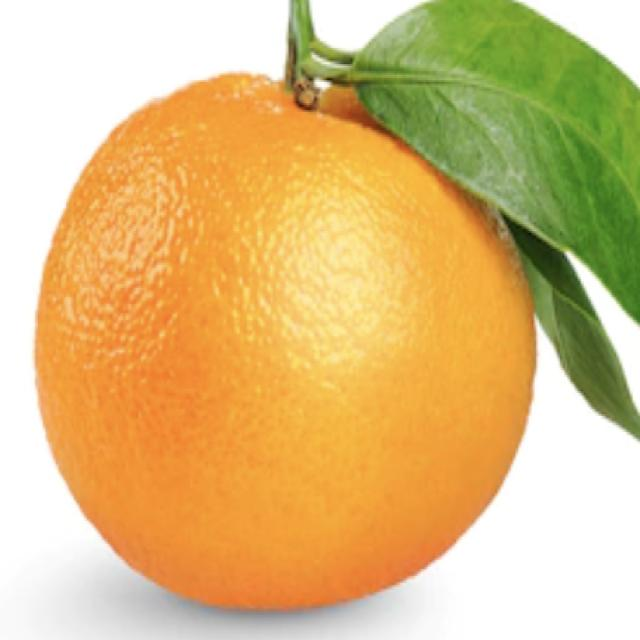orange: (29, 76, 538, 614)
